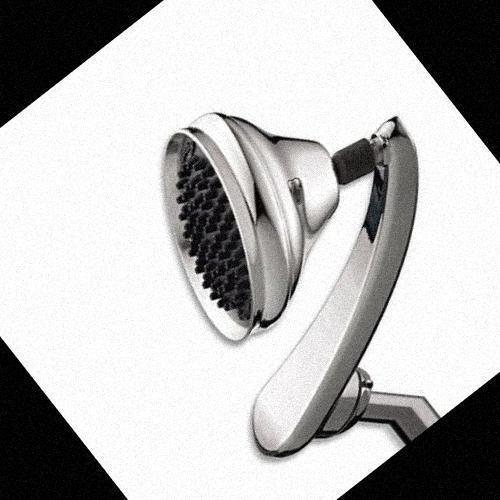Ducha: (71, 11, 500, 500)
